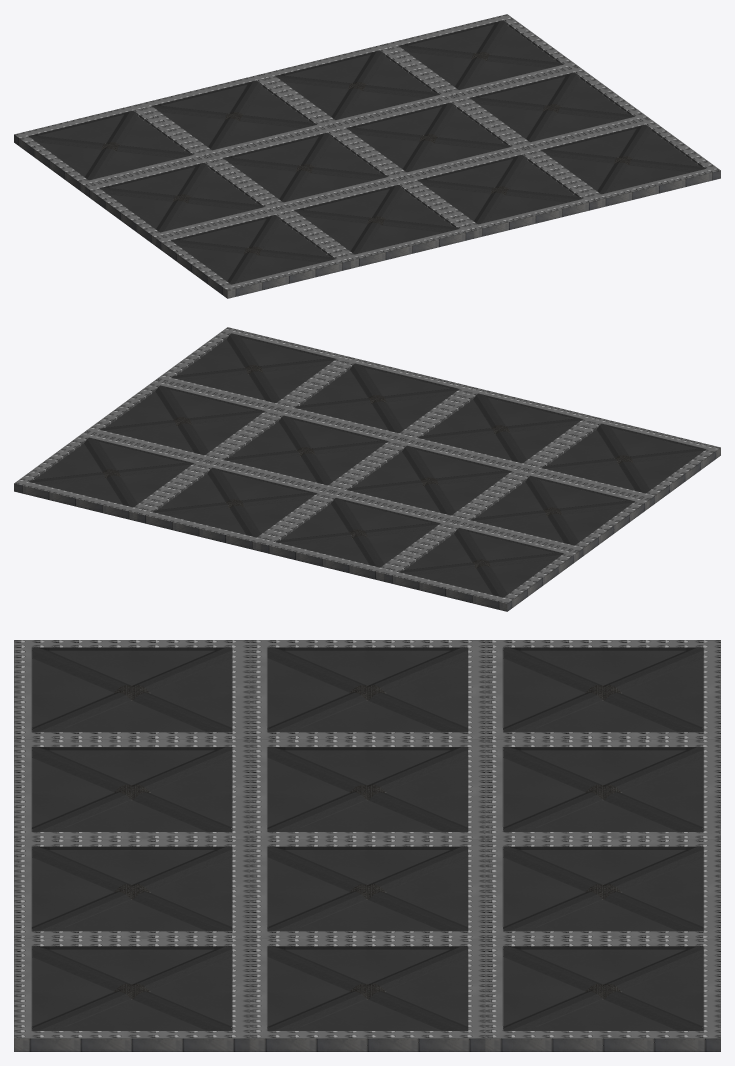
Rendered from UMOD_Prop-Square-3x4_.fbx.
3 views of the same model, one above another, from view 1: azimuth 30°, elevation 25°; view 2: azimuth 150°, elevation 25°; view 3: azimuth 270°, elevation 25° (orthographic). The views are drawn at different scales.
Parts seen in each view (by area): view 1: pCube6, pCube7, pCube11, pCube13, pCube14, pCube8, pCube12, pCube9, pCube16, pCube17, pCube10, pCube15; view 2: pCube14, pCube15, pCube16, pCube17, pCube6, pCube8, pCube12, pCube9, pCube11, pCube13, pCube10, pCube7; view 3: pCube12, pCube13, pCube17, pCube9, pCube7, pCube15, pCube8, pCube10, pCube6, pCube11, pCube14, pCube16.
Boxes of the visible parts, box(x1,y1,x2,y2) form: pCube6: box(156, 208, 350, 298); pCube7: box(280, 178, 474, 268); pCube11: box(403, 148, 597, 238); pCube13: box(527, 118, 720, 208); pCube14: box(14, 104, 208, 194); pCube8: box(85, 156, 279, 246); pCube12: box(455, 66, 649, 148); pCube9: box(209, 126, 402, 208); pCube16: box(261, 44, 454, 126); pCube17: box(384, 14, 578, 96); pCube10: box(332, 96, 525, 178); pCube15: box(138, 74, 331, 156); pCube14: box(384, 521, 578, 611); pCube15: box(260, 491, 454, 581); pCube16: box(137, 461, 331, 551); pCube17: box(14, 431, 207, 521); pCube6: box(526, 417, 720, 507); pCube8: box(455, 469, 649, 559); pCube12: box(85, 379, 279, 461); pCube9: box(332, 439, 525, 521); pCube11: box(280, 357, 473, 439); pCube13: box(156, 327, 350, 409); pCube10: box(209, 409, 402, 491); pCube7: box(403, 387, 596, 469); pCube12: box(249, 939, 485, 1051); pCube13: box(14, 939, 249, 1051); pCube17: box(485, 939, 720, 1051); pCube9: box(249, 739, 485, 839); pCube7: box(14, 739, 249, 839); pCube15: box(485, 739, 720, 839); pCube8: box(249, 640, 485, 739); pCube10: box(249, 839, 485, 938); pCube6: box(14, 640, 249, 739); pCube11: box(14, 839, 249, 938); pCube14: box(485, 640, 720, 739); pCube16: box(485, 839, 720, 938).
Bounding box in the file's own units: 32 × 0.5 × 24.
1 material, 1 textured.
